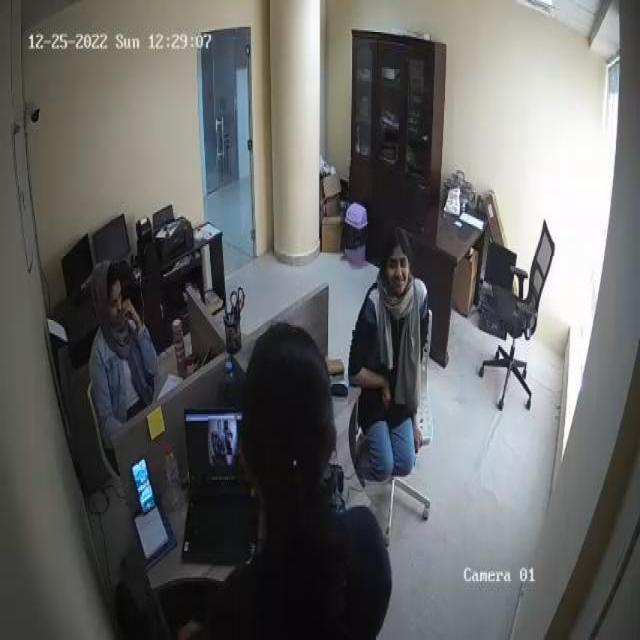bare_hand: (410, 413, 429, 467), (377, 365, 397, 416)
